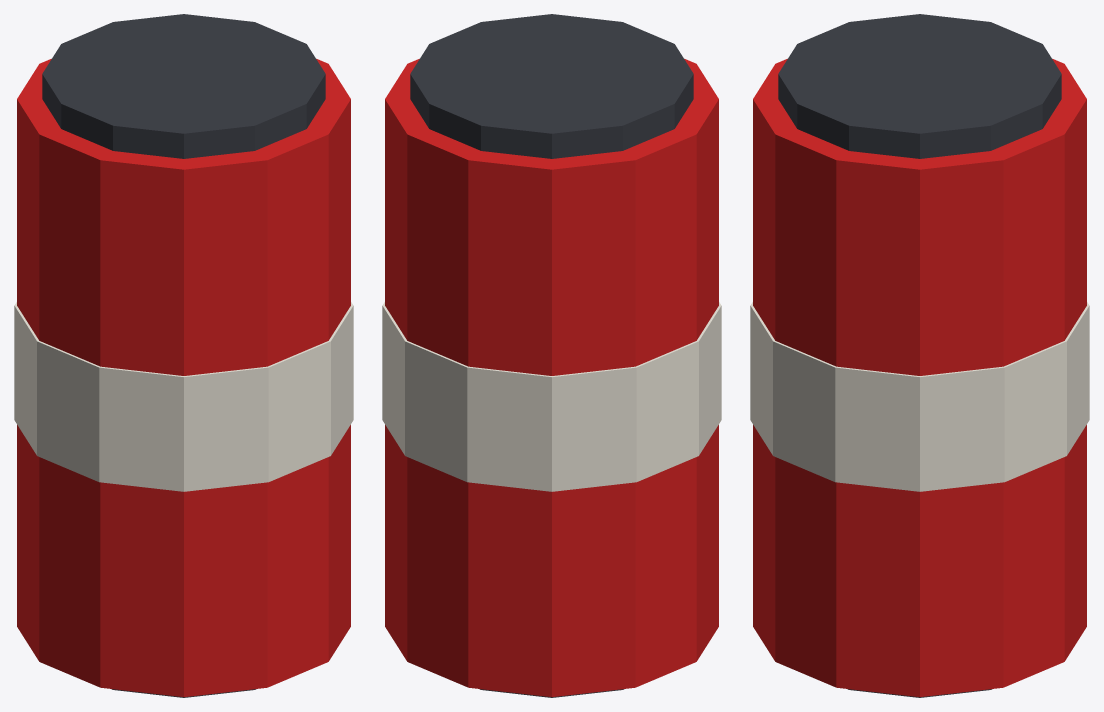
The model's file is soda_can.glb.
3 views of the same model, side by side, from view 1: azimuth 30°, elevation 25°; view 2: azimuth 150°, elevation 25°; view 3: azimuth 270°, elevation 25° (orthographic).
Visible parts, largest first — view 1: soda_can; view 2: soda_can; view 3: soda_can.
Part boxes in pixels (box(x1,y1,x2,y2)): soda_can: box(14, 14, 353, 697); soda_can: box(382, 14, 721, 697); soda_can: box(750, 14, 1089, 697).
Bounding box in the file's own units: 0.067 × 0.123 × 0.067.
